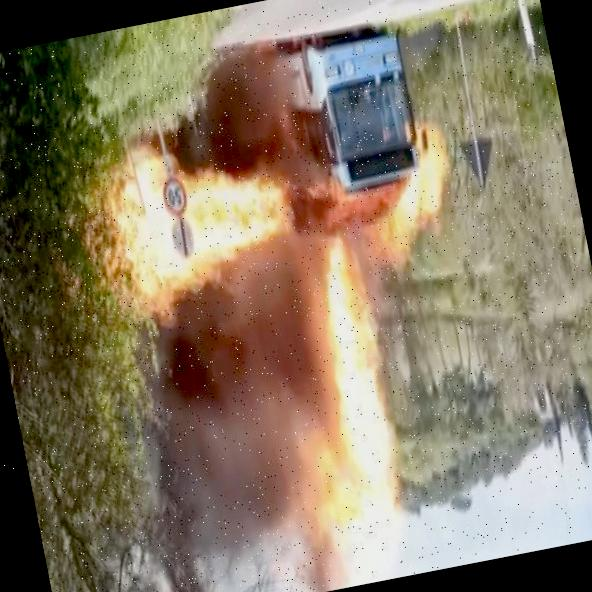smoke: (78, 282, 338, 592), (138, 25, 307, 188)
